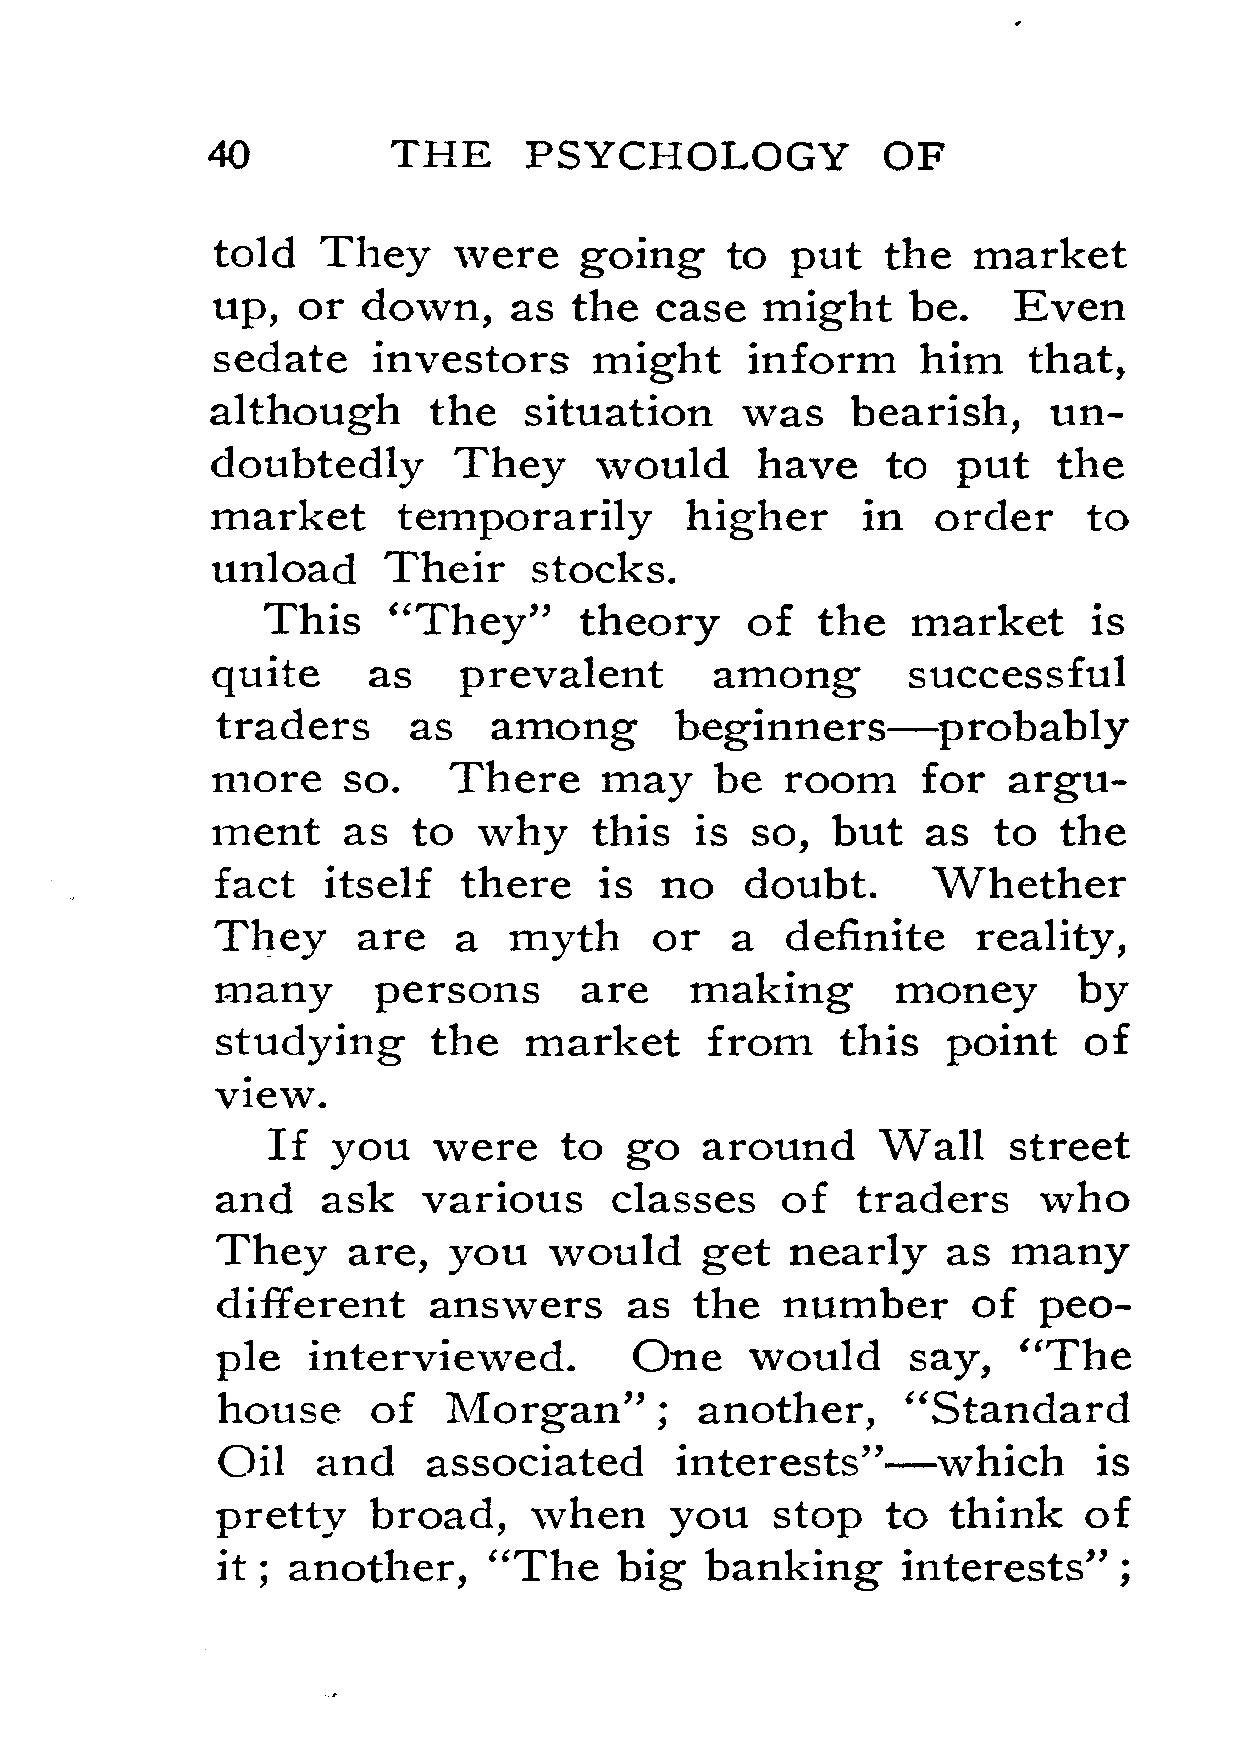content: (207, 234, 1134, 1596)
content_chapter: (386, 133, 951, 178)
content_pagenumber: (200, 126, 252, 178)
